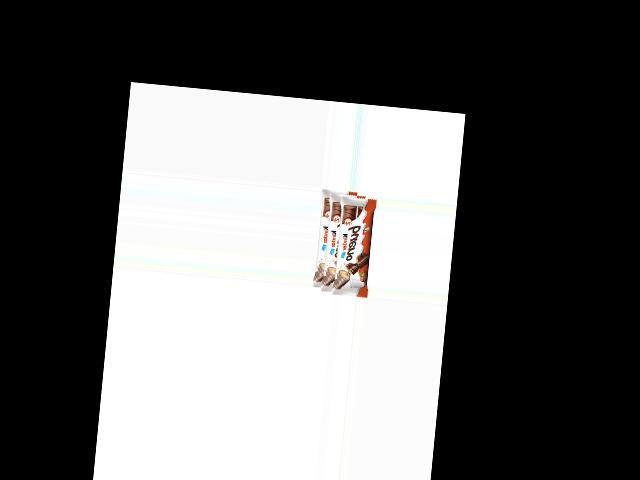chocolate: (312, 189, 378, 295)
